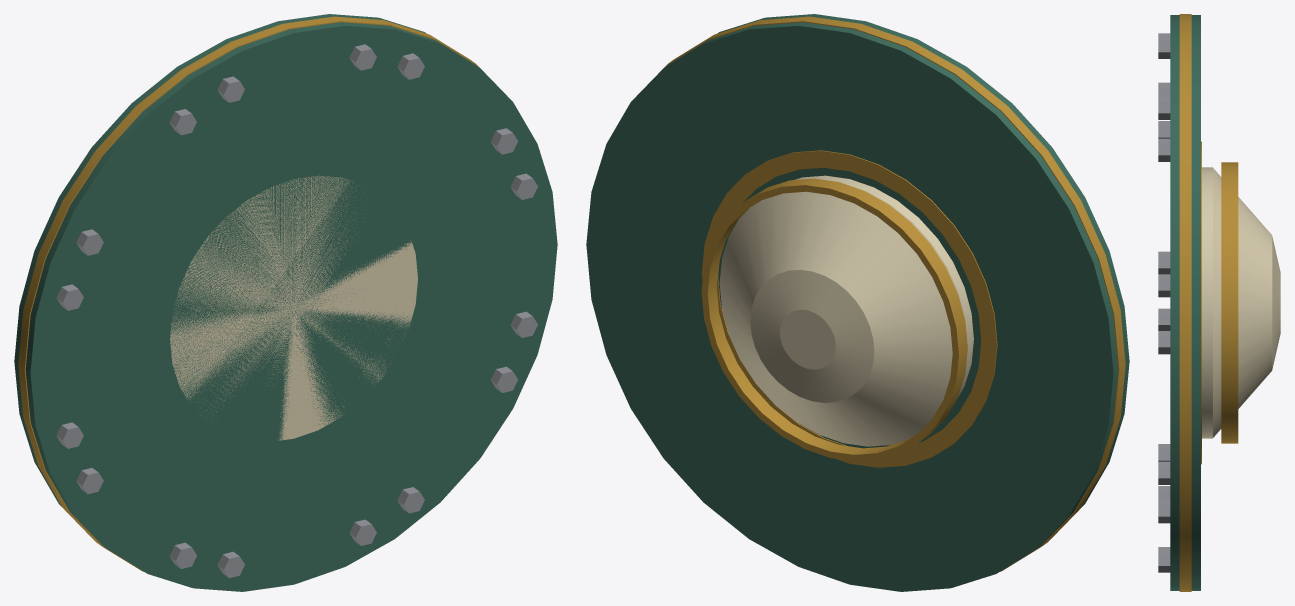
File: tank4200_coupler_fore.obj
The picture shows the model from 3 angles, left to right: view 1: azimuth 30°, elevation 25°; view 2: azimuth 150°, elevation 25°; view 3: azimuth 270°, elevation 25°; orthographic projection. The views are drawn at different scales.
Parts seen in each view (by area): view 1: tank4200_coupler_fore; view 2: tank4200_coupler_fore; view 3: tank4200_coupler_fore.
Part boxes in pixels (x1=…): tank4200_coupler_fore: x1=14, y1=14, x2=557, y2=591; tank4200_coupler_fore: x1=586, y1=14, x2=1129, y2=591; tank4200_coupler_fore: x1=1158, y1=14, x2=1280, y2=591.
Size of the model in its own units: 3.41 by 3.41 by 0.7214.
